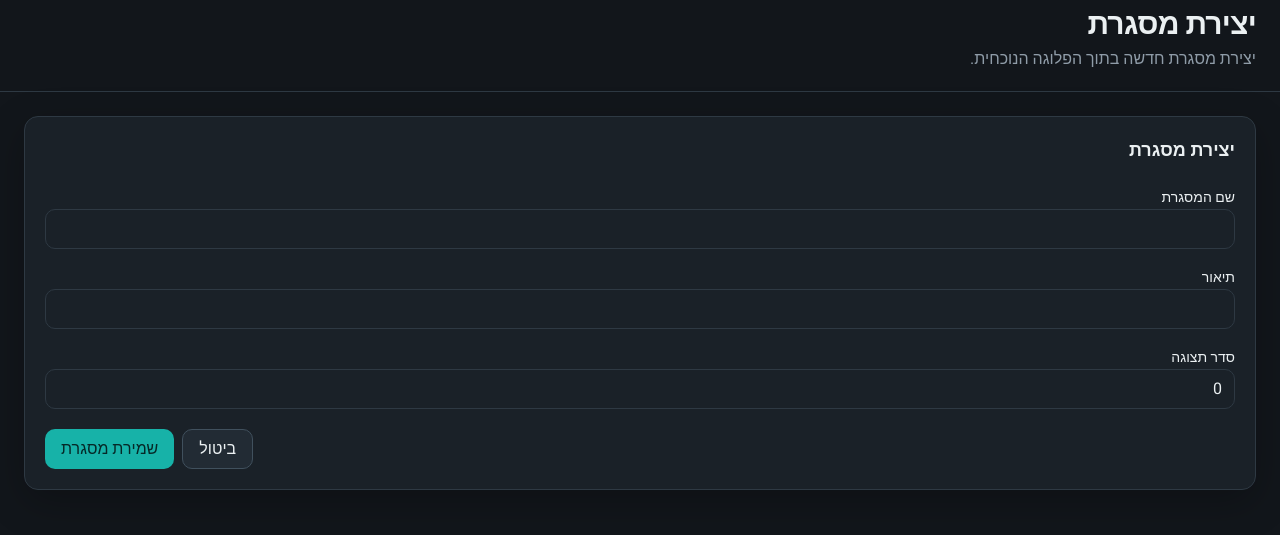
Scenario: UnitFormPage › validates required fields before submit
Click the button "שמירת מסגרת" at (110, 449), box x1=45 y1=429 x2=174 y2=469
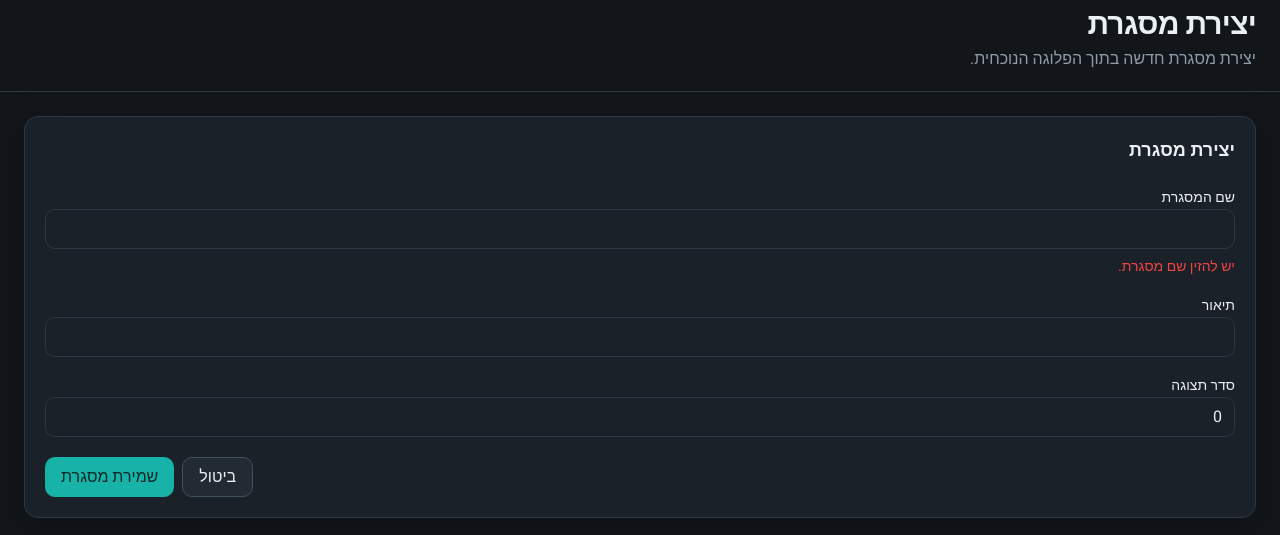
Check: the text "יש להזין שם מסגרת." is shown, box x1=1118 y1=256 x2=1235 y2=277
